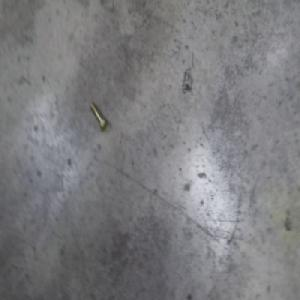Bolt: (86, 100, 106, 132)
